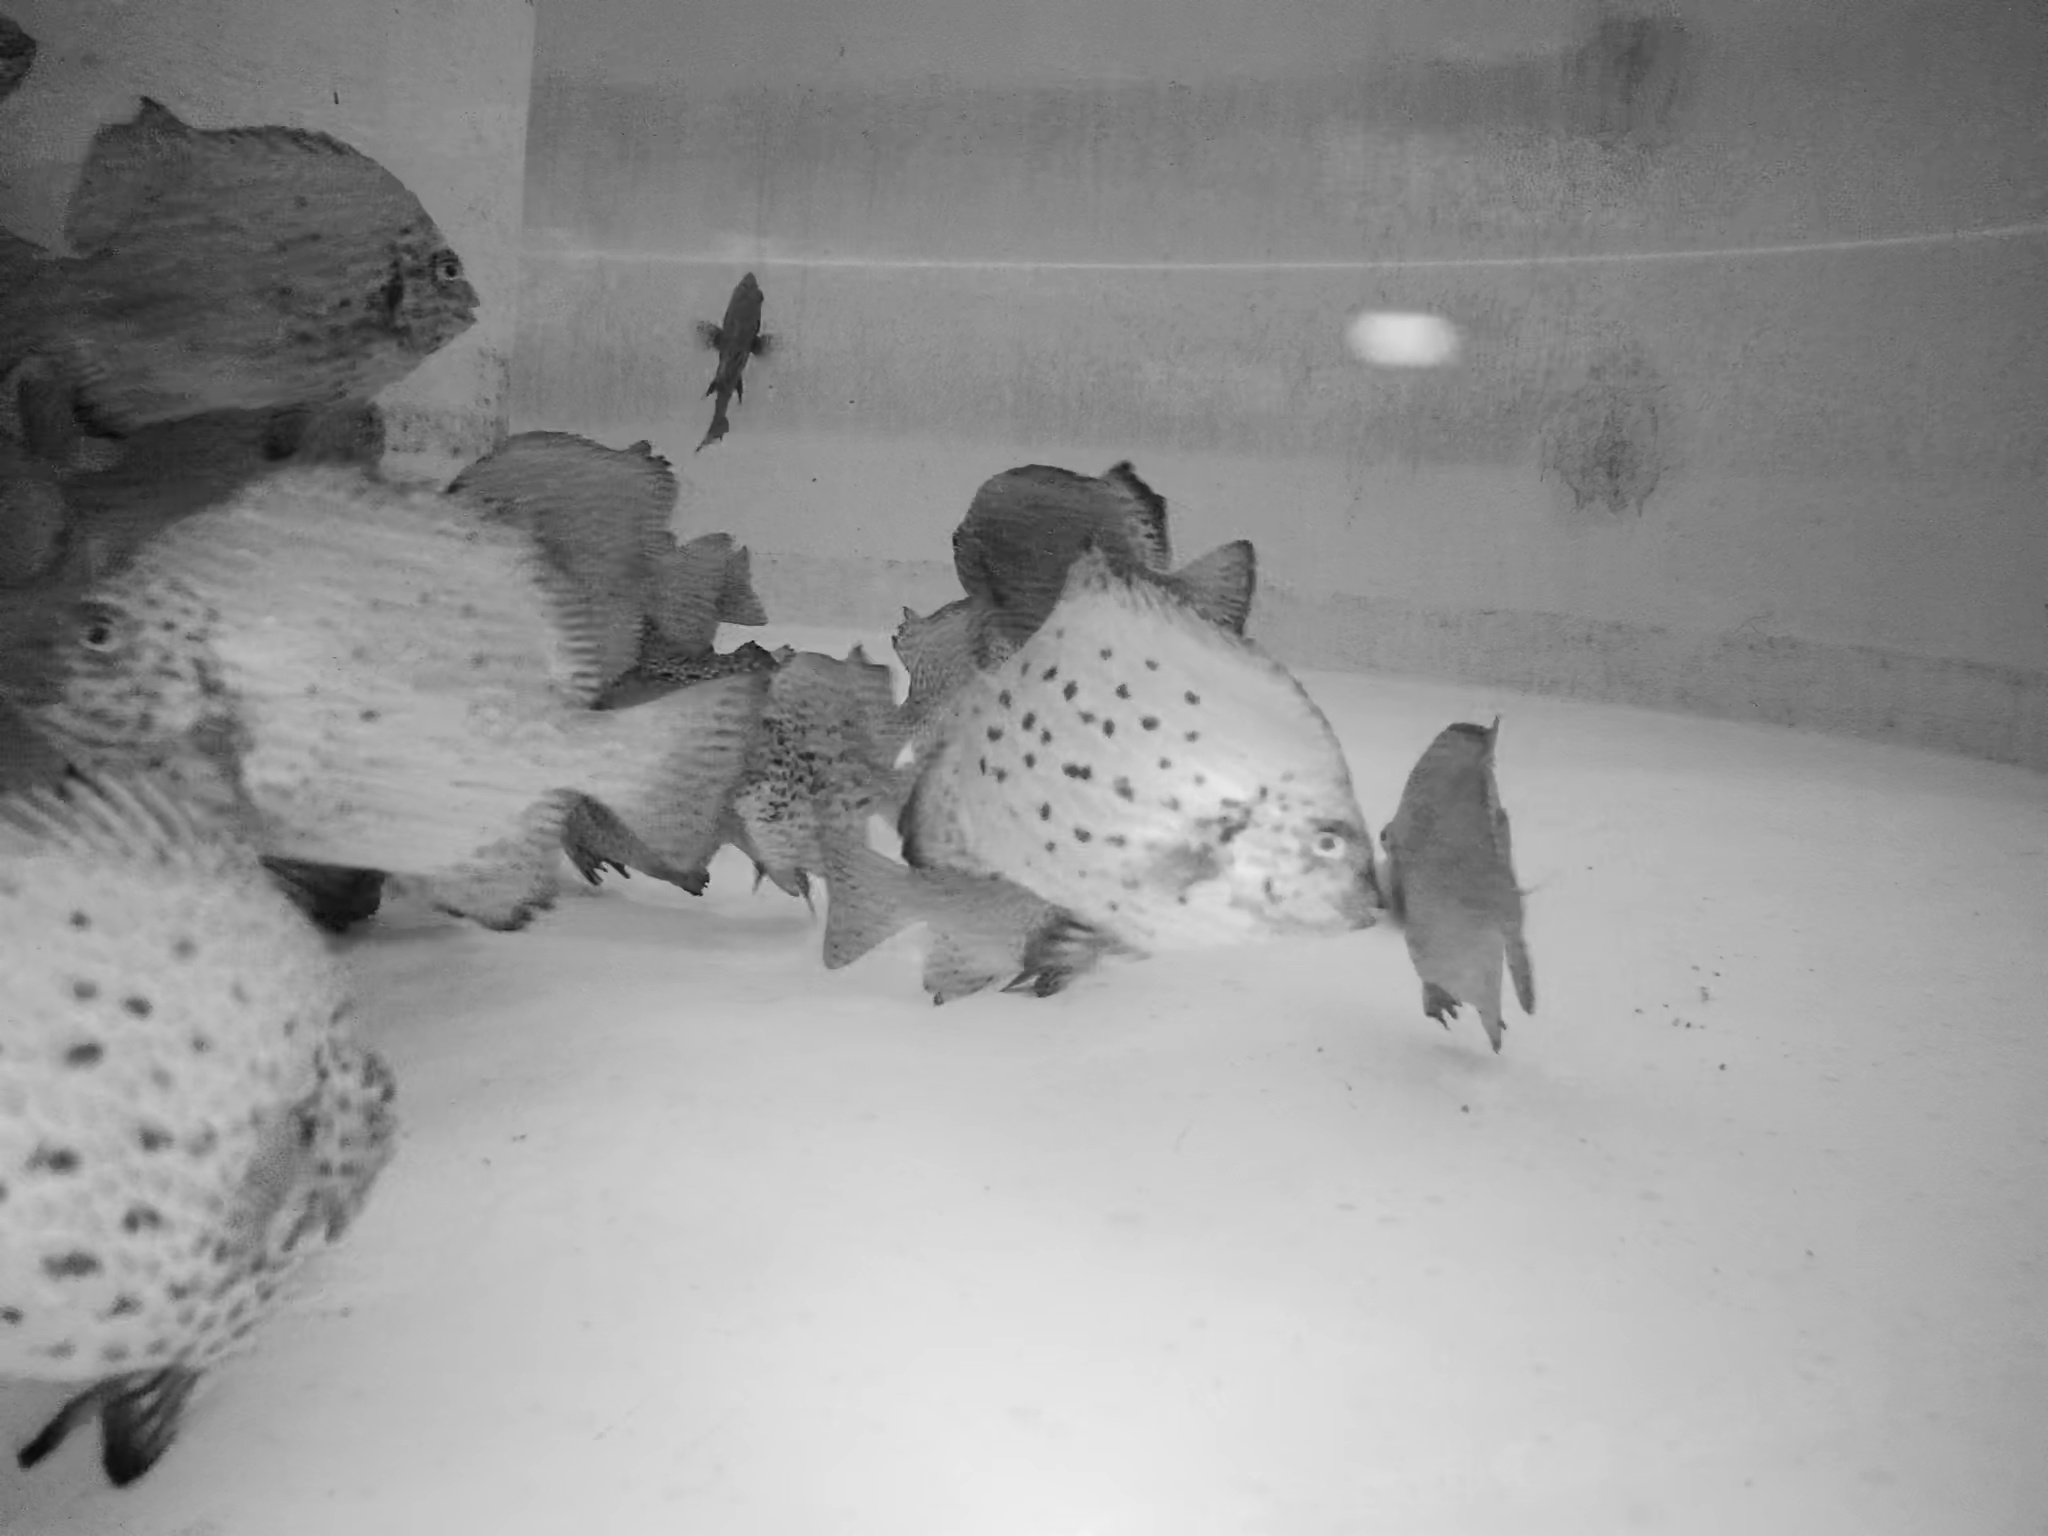fish: (18, 473, 742, 928), (10, 750, 400, 1473), (887, 552, 1387, 966), (37, 90, 487, 394), (452, 424, 735, 670), (942, 449, 1259, 644), (1376, 694, 1548, 1052), (727, 657, 930, 910), (684, 265, 787, 431)
